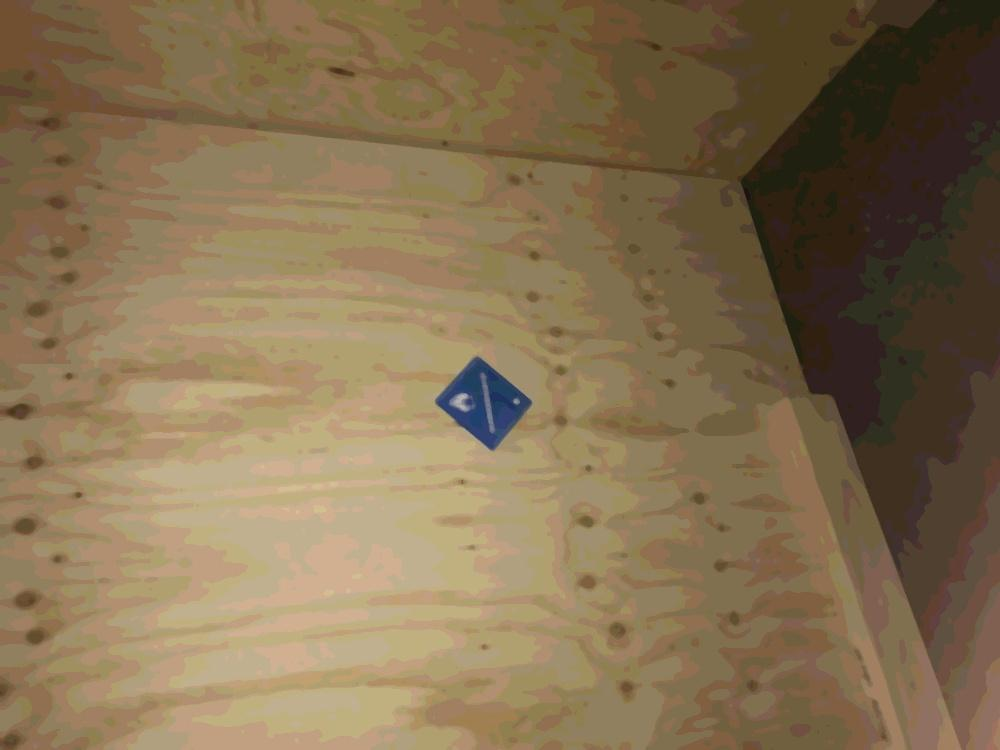dangerous-when-wet: (433, 351, 536, 453)
